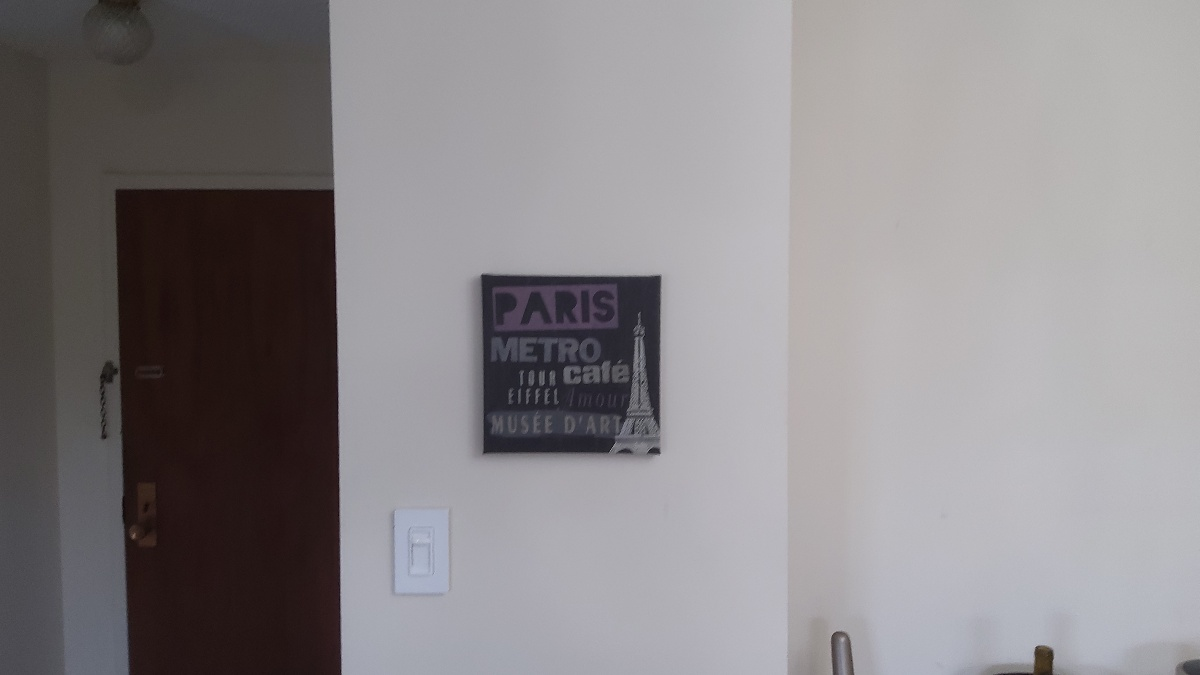poster: (475, 264, 671, 461)
